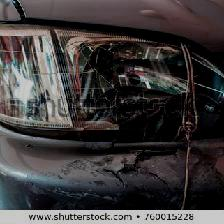head_lamp: (41, 27, 223, 210)
